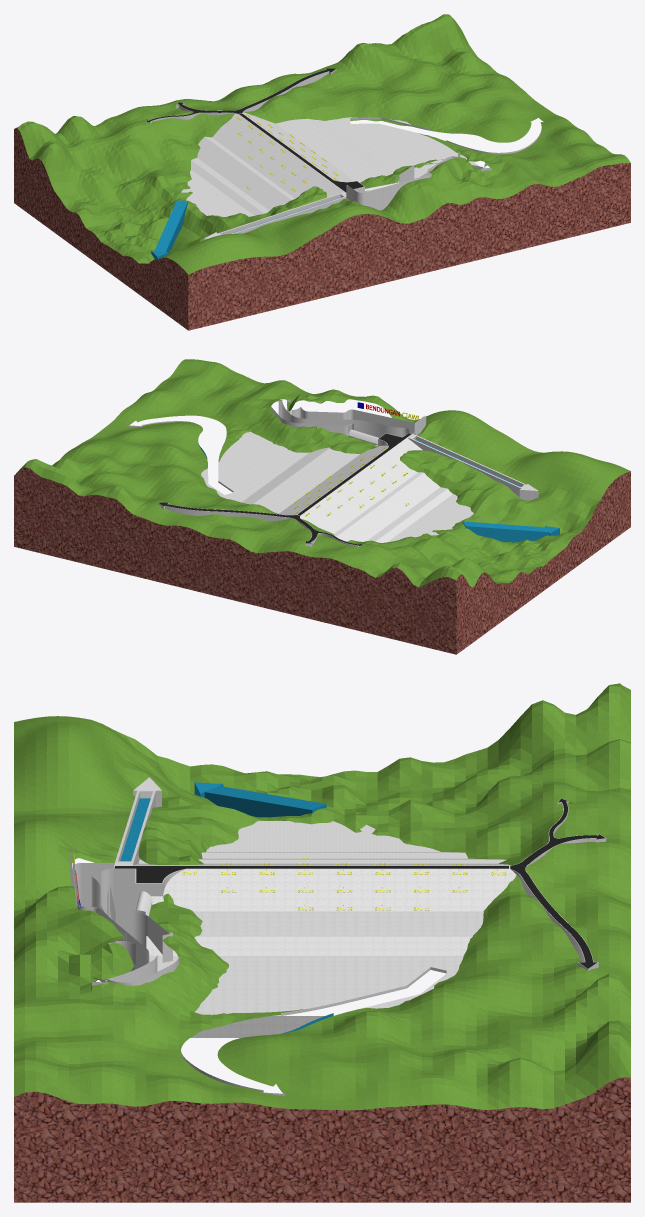
File: MODEL BENDUNGAN CIAWI.gltf
3 views of the same model, one above another, from view 1: azimuth 30°, elevation 25°; view 2: azimuth 150°, elevation 25°; view 3: azimuth 270°, elevation 25° (orthographic). The views are drawn at different scales.
Visible parts, largest first — view 1: object 14, object 10, object 11, object 12, object 13; view 2: object 14, object 10, object 11, object 12, object 13; view 3: object 14, object 11, object 12, object 10, object 13.
Part boxes in pixels (left/top/right/bottom): object 14: left=14, top=14, right=630, bottom=330; object 10: left=181, top=113, right=344, bottom=216; object 11: left=242, top=112, right=543, bottom=192; object 12: left=146, top=68, right=491, bottom=240; object 13: left=151, top=200, right=187, bottom=259; object 14: left=14, top=359, right=630, bottom=654; object 10: left=300, top=438, right=473, bottom=542; object 11: left=127, top=421, right=387, bottom=515; object 12: left=158, top=399, right=538, bottom=547; object 13: left=462, top=521, right=559, bottom=542; object 14: left=14, top=683, right=630, bottom=1202; object 11: left=146, top=869, right=516, bottom=1096; object 12: left=70, top=777, right=606, bottom=985; object 10: left=133, top=821, right=511, bottom=865; object 13: left=194, top=782, right=326, bottom=820.
Size of the model in its own units: 820 by 154 by 560.
8 materials, 5 textured.
